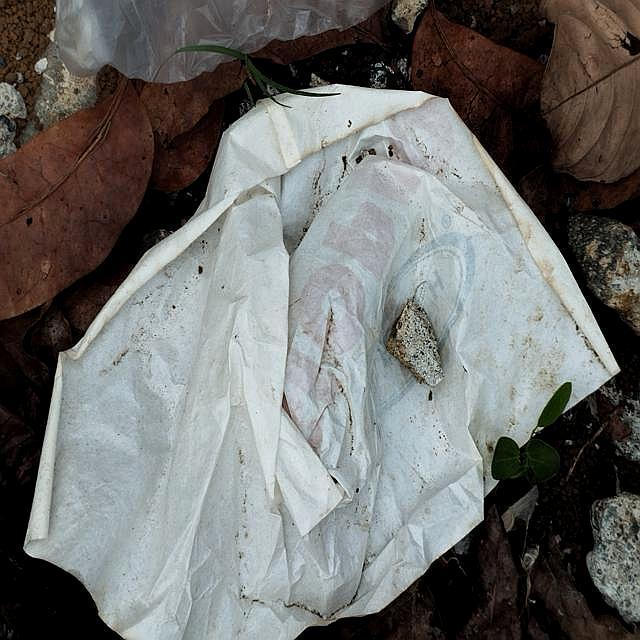Biodegradable: (32, 91, 620, 640)
Non-biodegradable: (54, 1, 417, 79)
